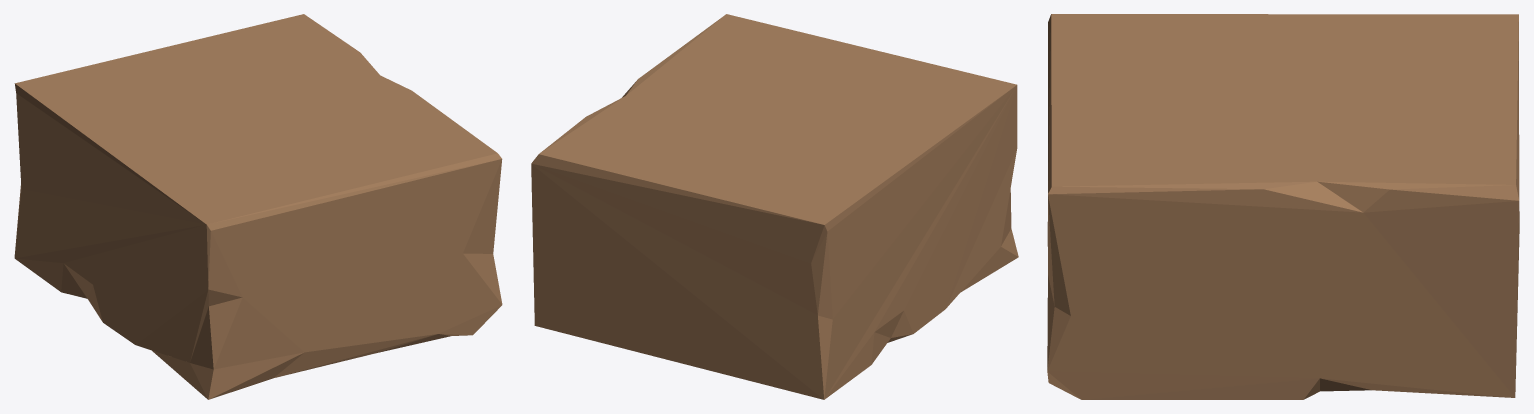
File: SM_large_brick_08.fbx
3 renders of one model, left to right at view 1: azimuth 30°, elevation 25°; view 2: azimuth 150°, elevation 25°; view 3: azimuth 270°, elevation 25°, orthographic. The views are drawn at different scales.
Parts seen in each view (by area): view 1: large_brick_08; view 2: large_brick_08; view 3: large_brick_08.
Boxes of the visible parts, left/top/right/bottom form: large_brick_08: left=14, top=14, right=502, bottom=399; large_brick_08: left=531, top=14, right=1018, bottom=399; large_brick_08: left=1047, top=14, right=1519, bottom=399.
Bounding box in the file's own units: 142 × 80.8 × 163.
